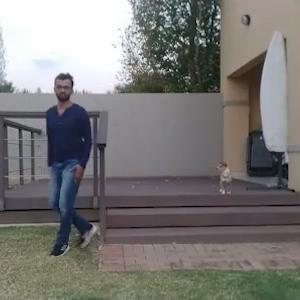follow: (43, 66, 104, 269)
